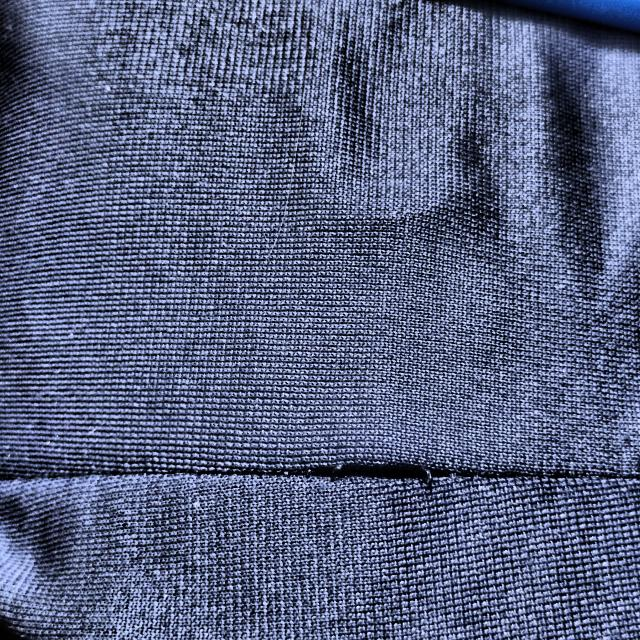seam: (296, 428, 468, 508)
